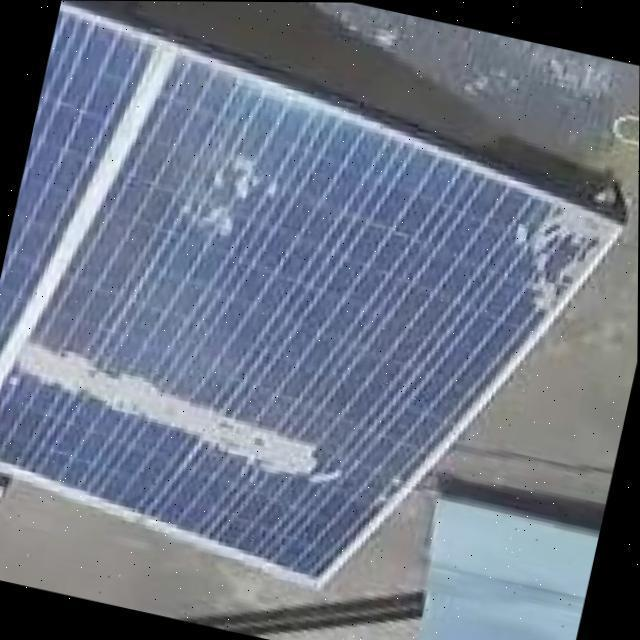Anomaly Solar Panel: (0, 14, 619, 640)
Snow: (12, 330, 357, 500), (493, 191, 619, 331), (157, 122, 290, 254)
